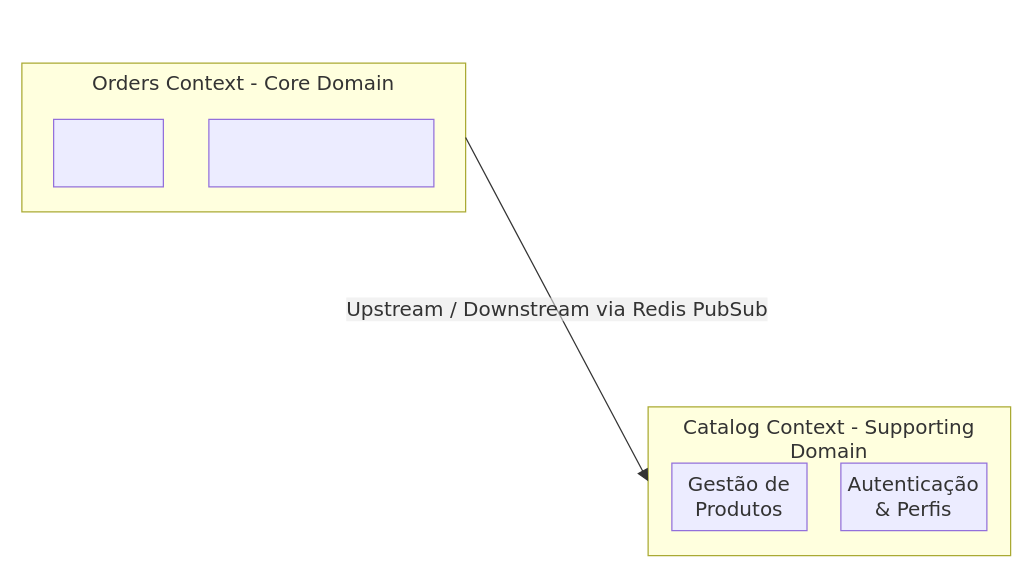
Some shapes in this 1033 by 578 pixel diagram are drawn without their labels. The centre of each missing label's shape, as x and y in pixels:
"Carrinho" belongs at point 107,152.
"Processamento de Pedidos" belongs at point 321,152.
